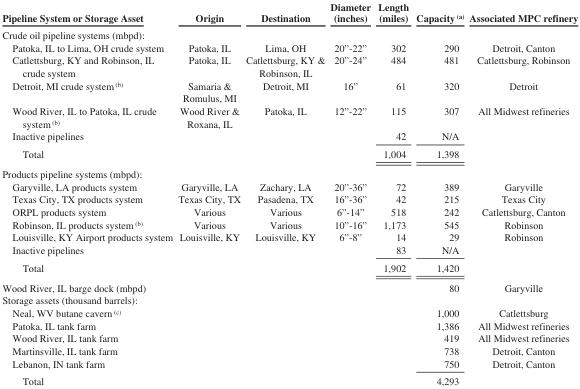table: (1, 1, 577, 386)
table column: (1, 1, 174, 386), (465, 1, 577, 386), (242, 1, 327, 386), (174, 1, 242, 386), (411, 1, 465, 386), (327, 1, 373, 386), (373, 1, 411, 386)
table column header: (1, 1, 577, 25)
table projected row header: (1, 25, 577, 41), (1, 163, 577, 179), (1, 293, 577, 306)
table row: (1, 78, 577, 104), (1, 53, 577, 78), (1, 104, 577, 129), (1, 1, 577, 25), (1, 144, 577, 163), (1, 258, 577, 277), (1, 25, 577, 41), (1, 163, 577, 179), (1, 277, 577, 293), (1, 129, 577, 144), (1, 243, 577, 258), (1, 356, 577, 371), (1, 371, 577, 386), (1, 179, 577, 192), (1, 192, 577, 205), (1, 217, 577, 230), (1, 230, 577, 243), (1, 293, 577, 306), (1, 318, 577, 331), (1, 331, 577, 344), (1, 41, 577, 53), (1, 205, 577, 217), (1, 306, 577, 318), (1, 344, 577, 356)
